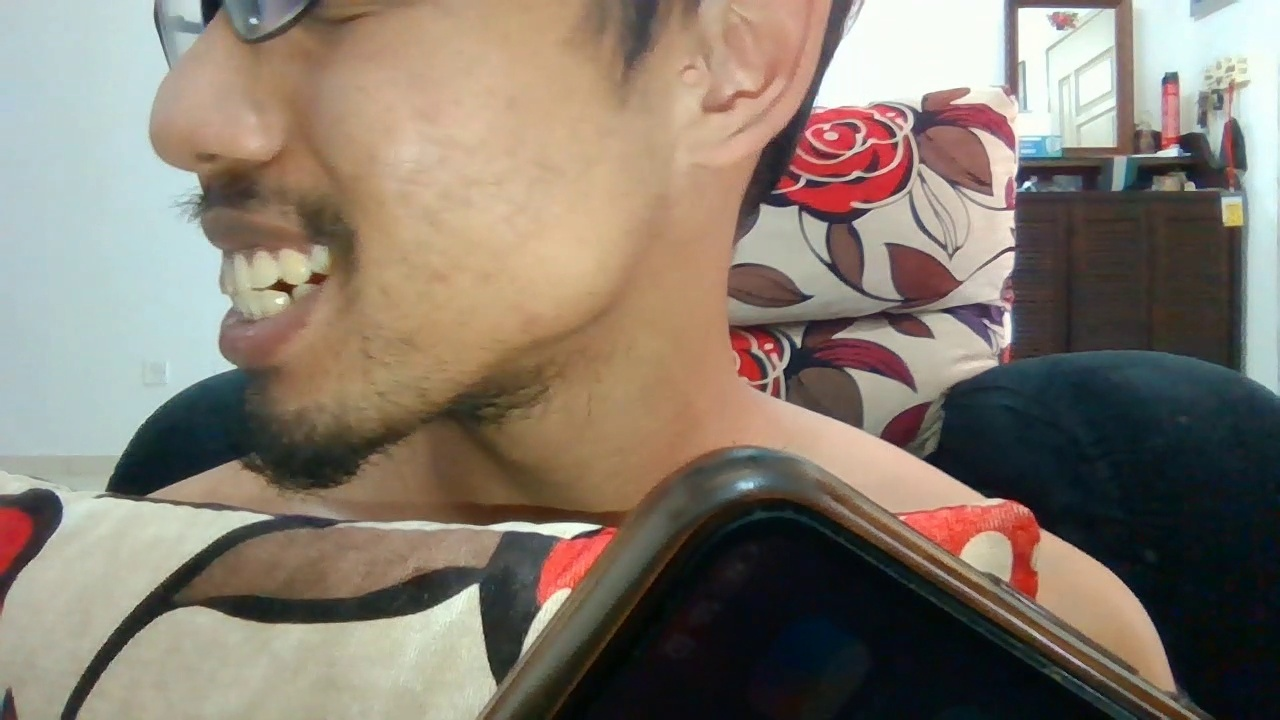1st Premolar: (310, 244, 330, 275)
Canine: (279, 247, 311, 283)
Central Incisor: (220, 256, 237, 294), (234, 252, 251, 290)
Lateral Incisor: (252, 250, 277, 288), (259, 290, 289, 313)
